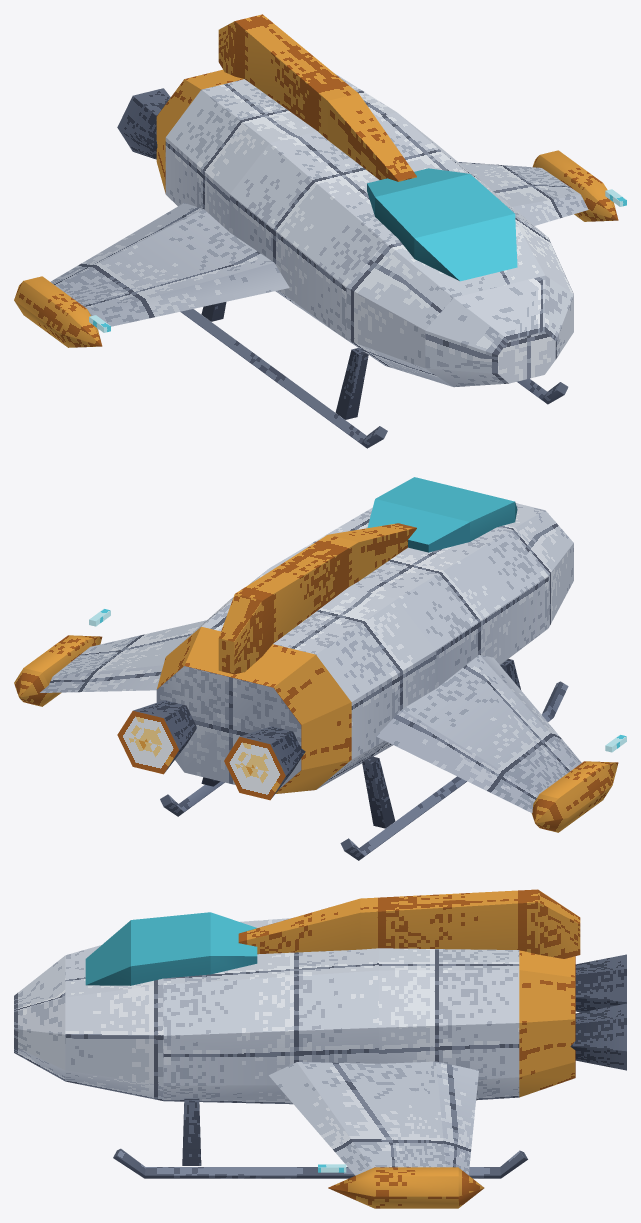
Rendered from ship.shuttle.glb.
3 renders of one model, top to bottom at view 1: azimuth 30°, elevation 25°; view 2: azimuth 150°, elevation 25°; view 3: azimuth 270°, elevation 25°, orthographic. The views are drawn at different scales.
Parts seen in each view (by area): view 1: kit_body, kit_wings, kit_spine, kit_canopy, kit_tip_pods, kit_skids, kit_thrusters, kit_struts; view 2: kit_body, kit_wings, kit_spine, kit_thrusters, kit_canopy, kit_tip_pods, kit_skids, kit_struts; view 3: kit_body, kit_wings, kit_spine, kit_canopy, kit_thrusters, kit_tip_pods, kit_skids, kit_struts.
Part boxes in pixels (x1,y1,x2,y2): kit_body: (156,69,573,387); kit_wings: (50,162,588,329); kit_spine: (218,14,416,181); kit_canopy: (367,168,517,281); kit_tip_pods: (14,150,618,347); kit_skids: (180,309,568,448); kit_thrusters: (117,88,170,159); kit_struts: (201,302,368,419); kit_body: (156,503,573,793); kit_wings: (40,620,581,812); kit_spine: (218,523,416,674); kit_thrusters: (117,700,305,800); kit_canopy: (367,477,517,552); kit_tip_pods: (14,635,618,832); kit_skids: (160,681,568,860); kit_struts: (201,659,520,828); kit_body: (14,918,575,1104); kit_wings: (269,1061,478,1175); kit_spine: (238,889,580,958); kit_canopy: (85,912,257,985); kit_thrusters: (570,954,626,1070); kit_tip_pods: (328,1167,484,1208); kit_skids: (113,1148,527,1178); kit_struts: (182,1098,201,1165).
Size of the model in its own units: 6.44 by 2.84 by 6.55.
Materials: 7 (6 with a texture image).
